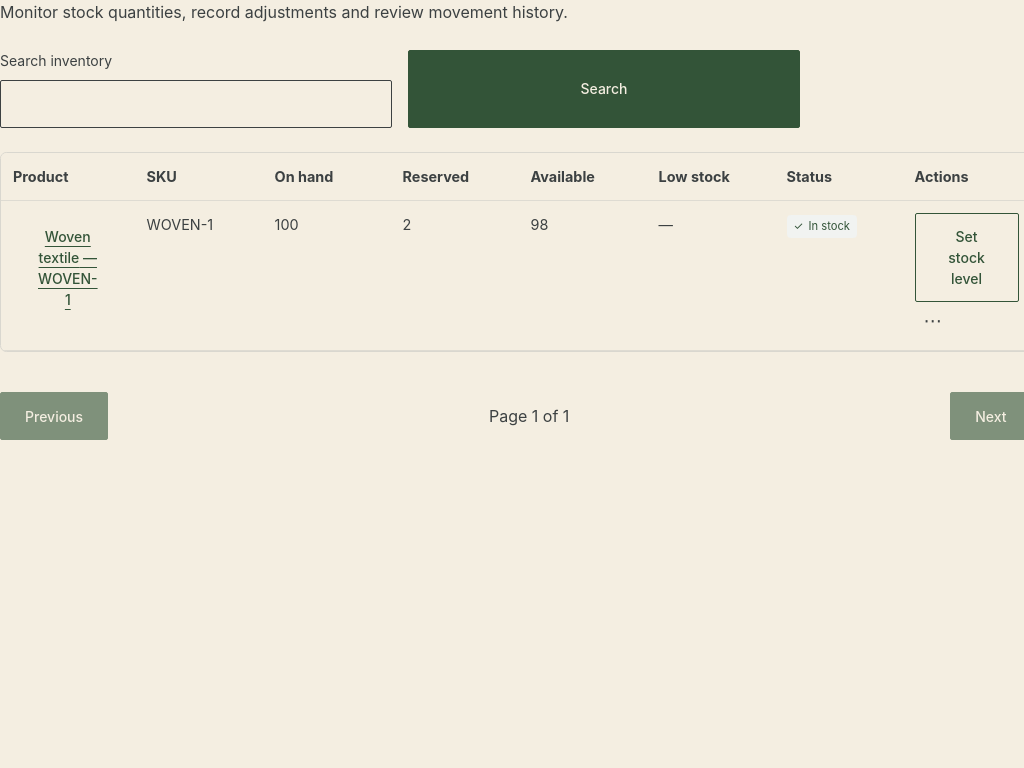
inventory administration › shows inventory staff operational reasons and actor names without internal identity fields
Click the button "Set stock level" at (967, 258), box [915, 213, 1019, 302]
(page scrolled)
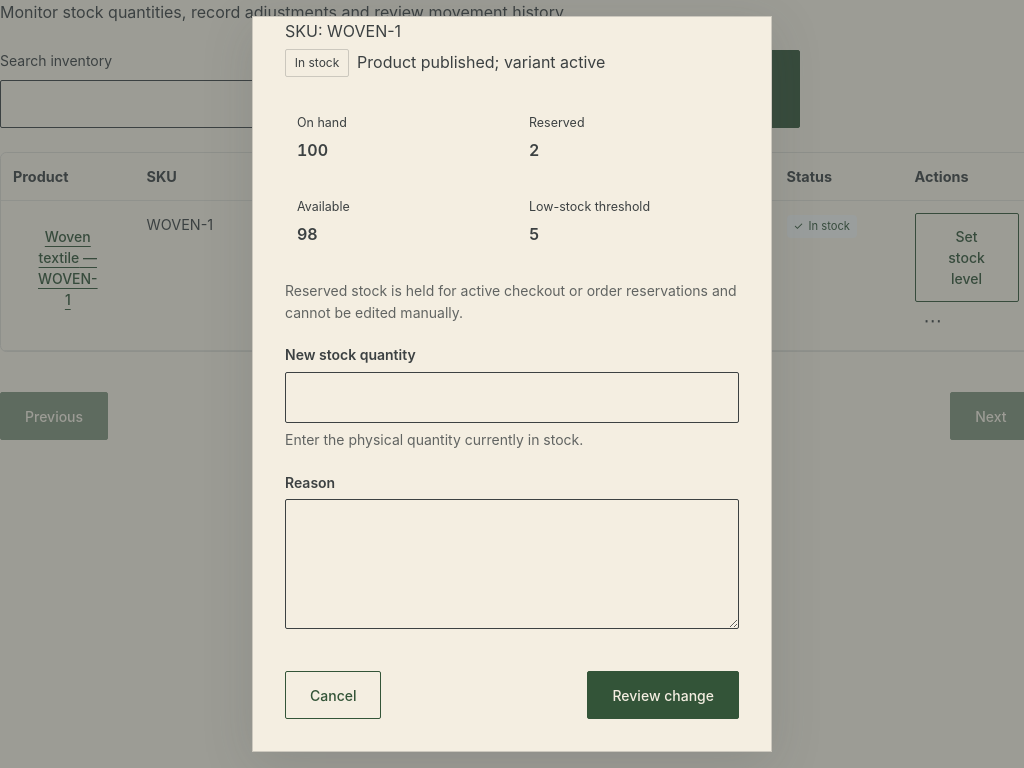
Check: the dialog "Set stock level" is shown, box [252, 16, 772, 752]
Check: the number field labelled "New stock quantity" is shown, box [285, 372, 739, 423]
Check: the text "Reserved stock is held for active checkout or order reservations and cannot be edited manually." is shown, box [285, 282, 737, 321]
Click the button "Cancel" at (333, 695), box [285, 671, 382, 719]
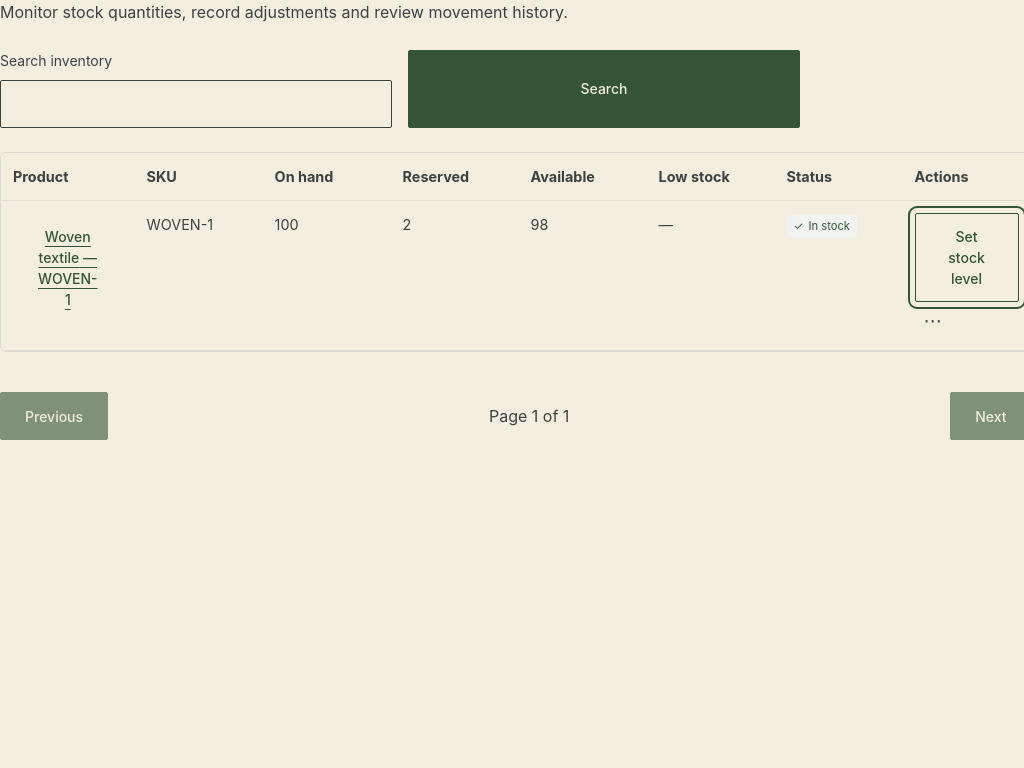
Click the button named "More actions" at (933, 320), box [915, 302, 951, 338]
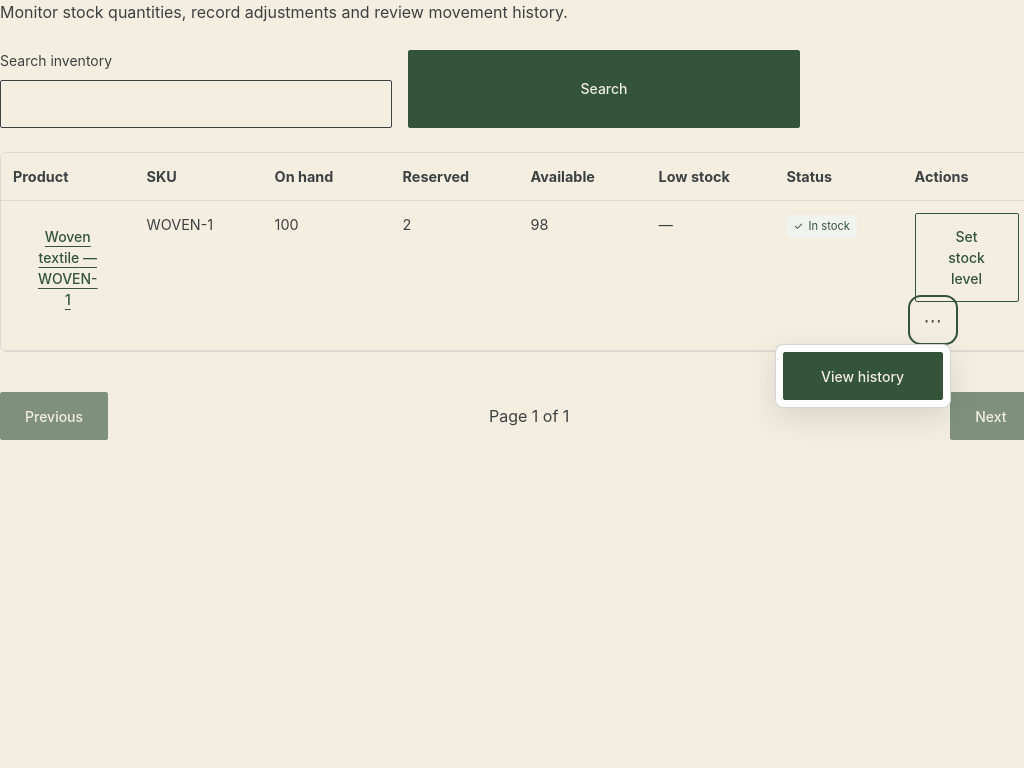
Click the button "View history" at (863, 376), box [783, 352, 943, 400]
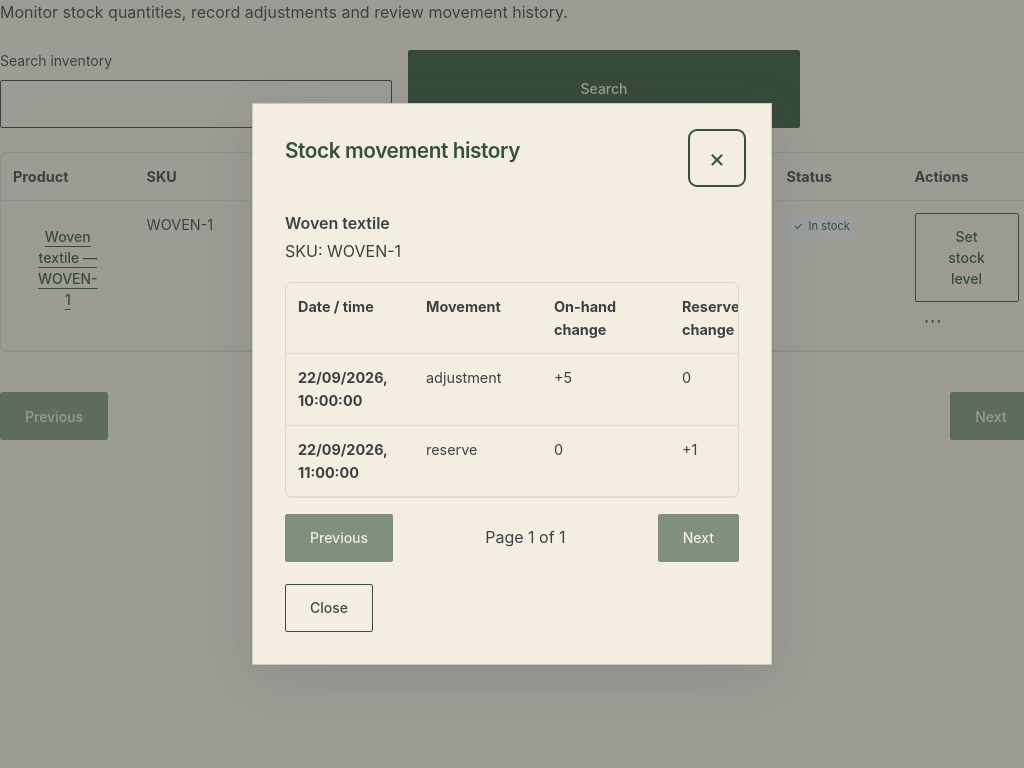
Check: the label labelled "New stock quantity" is not shown
Check: the heading "Stock movement history" is shown, box [285, 139, 520, 162]
